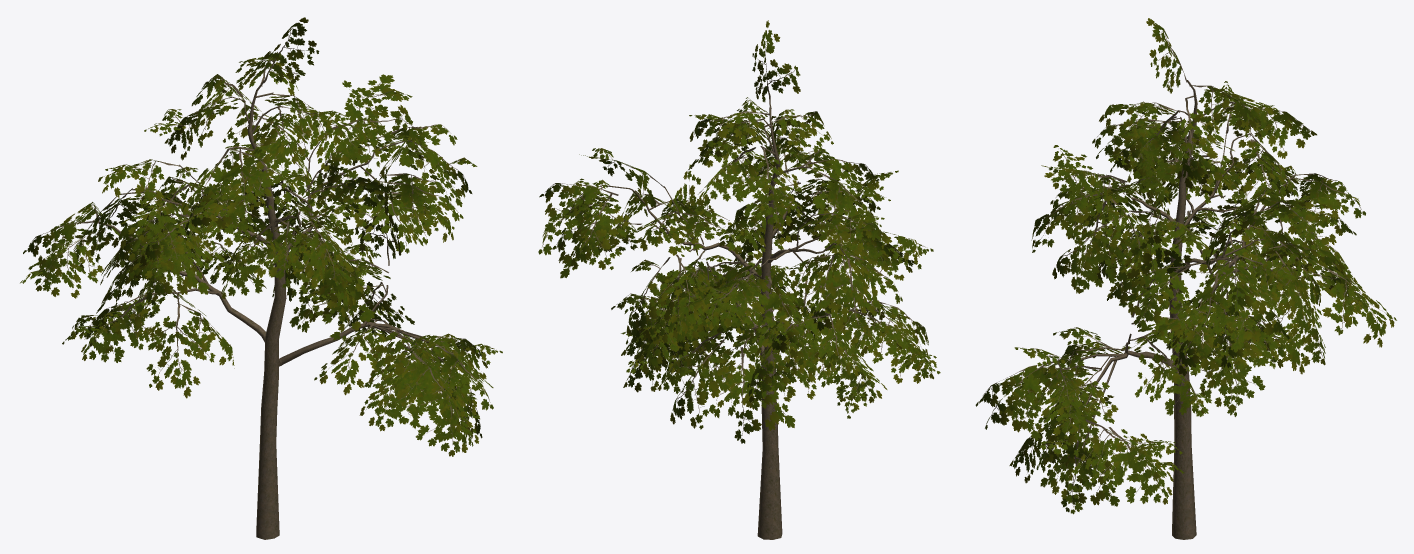
File: maple_m3.glb
3 views of the same model, side by side, from view 1: azimuth 30°, elevation 25°; view 2: azimuth 150°, elevation 25°; view 3: azimuth 270°, elevation 25° (orthographic). The views are drawn at different scales.
Visible parts, largest first — view 1: Acer_medium_3_LOD1_Cluster_Mat_0, Acer_medium_3_LOD1_Bark_Mat_0; view 2: Acer_medium_3_LOD1_Cluster_Mat_0, Acer_medium_3_LOD1_Bark_Mat_0; view 3: Acer_medium_3_LOD1_Cluster_Mat_0, Acer_medium_3_LOD1_Bark_Mat_0.
Part boxes in pixels (left/top/right/bottom): Acer_medium_3_LOD1_Cluster_Mat_0: left=20, top=17, right=502, bottom=456; Acer_medium_3_LOD1_Bark_Mat_0: left=93, top=80, right=443, bottom=539; Acer_medium_3_LOD1_Cluster_Mat_0: left=538, top=20, right=940, bottom=443; Acer_medium_3_LOD1_Bark_Mat_0: left=602, top=107, right=878, bottom=539; Acer_medium_3_LOD1_Cluster_Mat_0: left=975, top=18, right=1396, bottom=514; Acer_medium_3_LOD1_Bark_Mat_0: left=1058, top=80, right=1295, bottom=539.
Bounding box in the file's own units: 7.23 × 8.5 × 6.23.
Materials: 2 (2 with a texture image).
